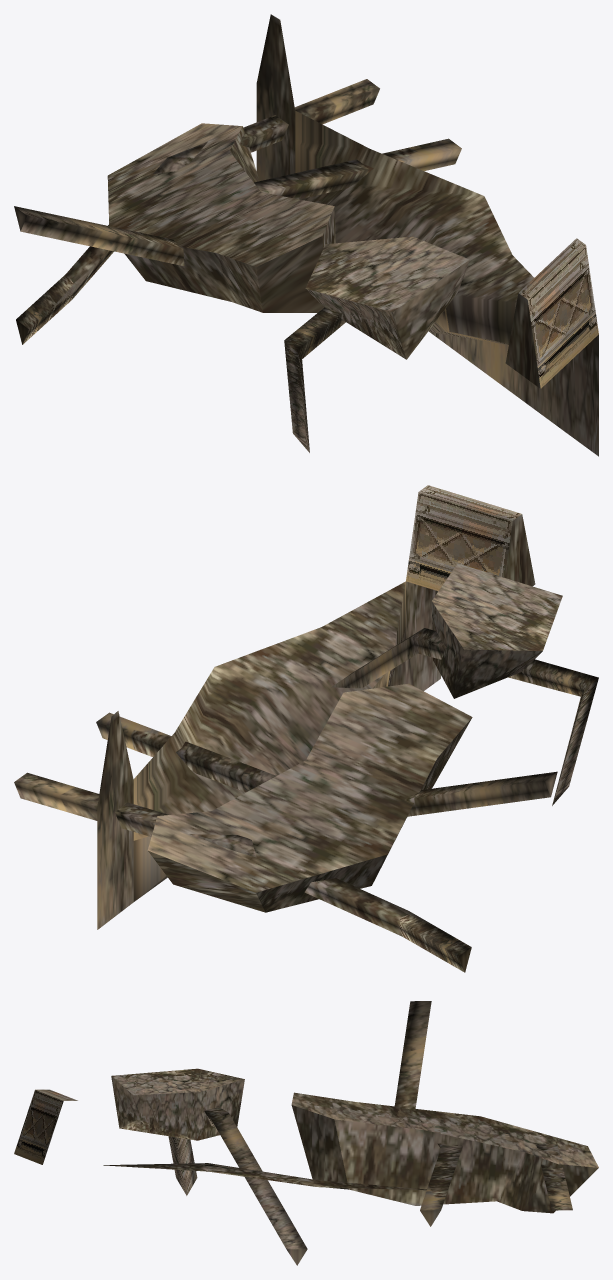
Rendered from M5_DestroyedBridge02.glb.
3 views of the same model, one above another, from view 1: azimuth 30°, elevation 25°; view 2: azimuth 150°, elevation 25°; view 3: azimuth 270°, elevation 25° (orthographic). The views are drawn at different scales.
Parts seen in each view (by area): view 1: M5_DESTROYEDBRIDGE02; view 2: M5_DESTROYEDBRIDGE02; view 3: M5_DESTROYEDBRIDGE02.
Boxes of the visible parts, box(x1,y1,x2,y2) form: M5_DESTROYEDBRIDGE02: box(14, 14, 598, 456); M5_DESTROYEDBRIDGE02: box(14, 485, 598, 972); M5_DESTROYEDBRIDGE02: box(14, 1001, 598, 1265).
Bounding box in the file's own units: 7.53 × 3.59 × 10.72.
Materials: 2 (2 with a texture image).
